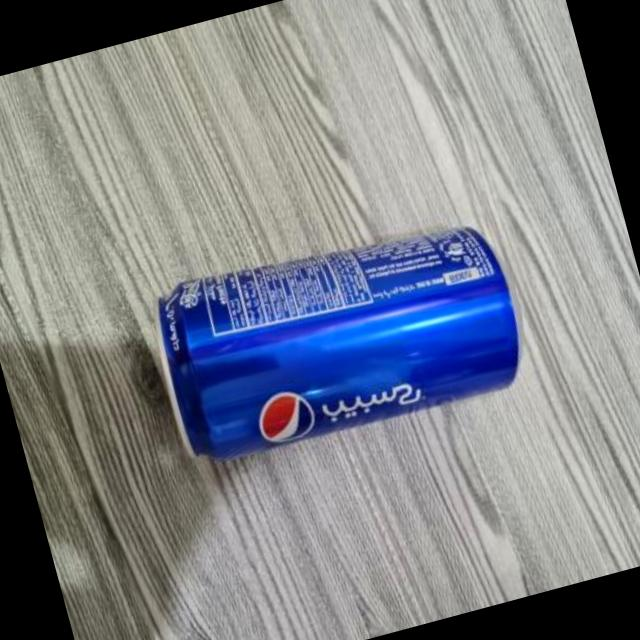metal: (162, 229, 520, 459)
